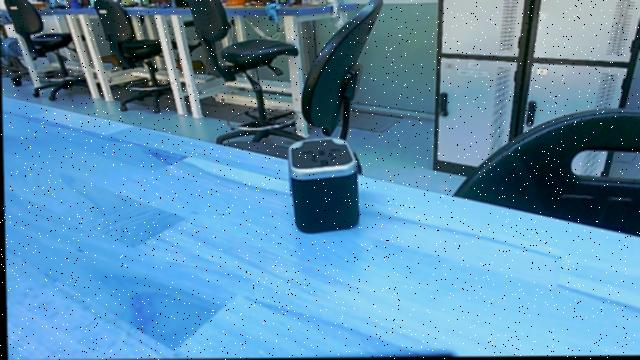adapter: (282, 137, 368, 237)
